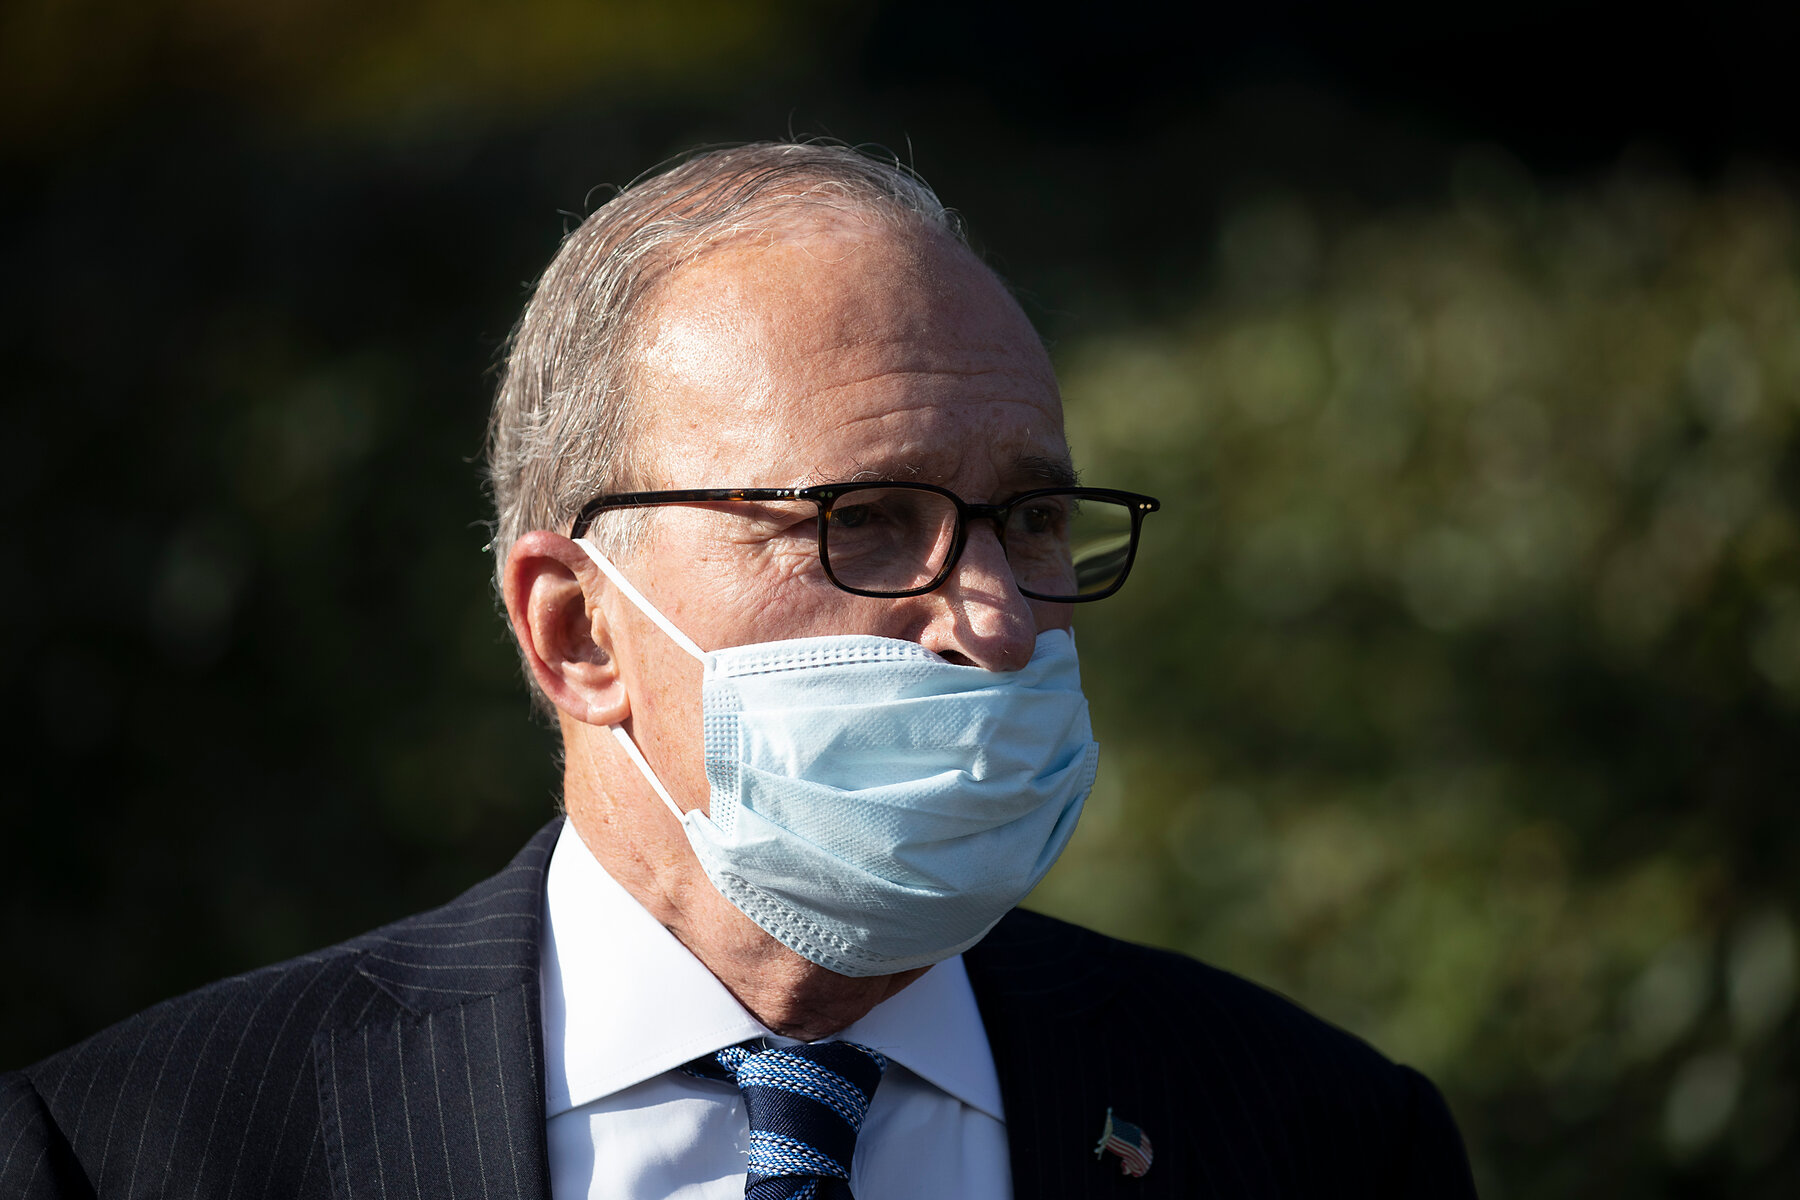with_mask: (664, 317, 1068, 909)
